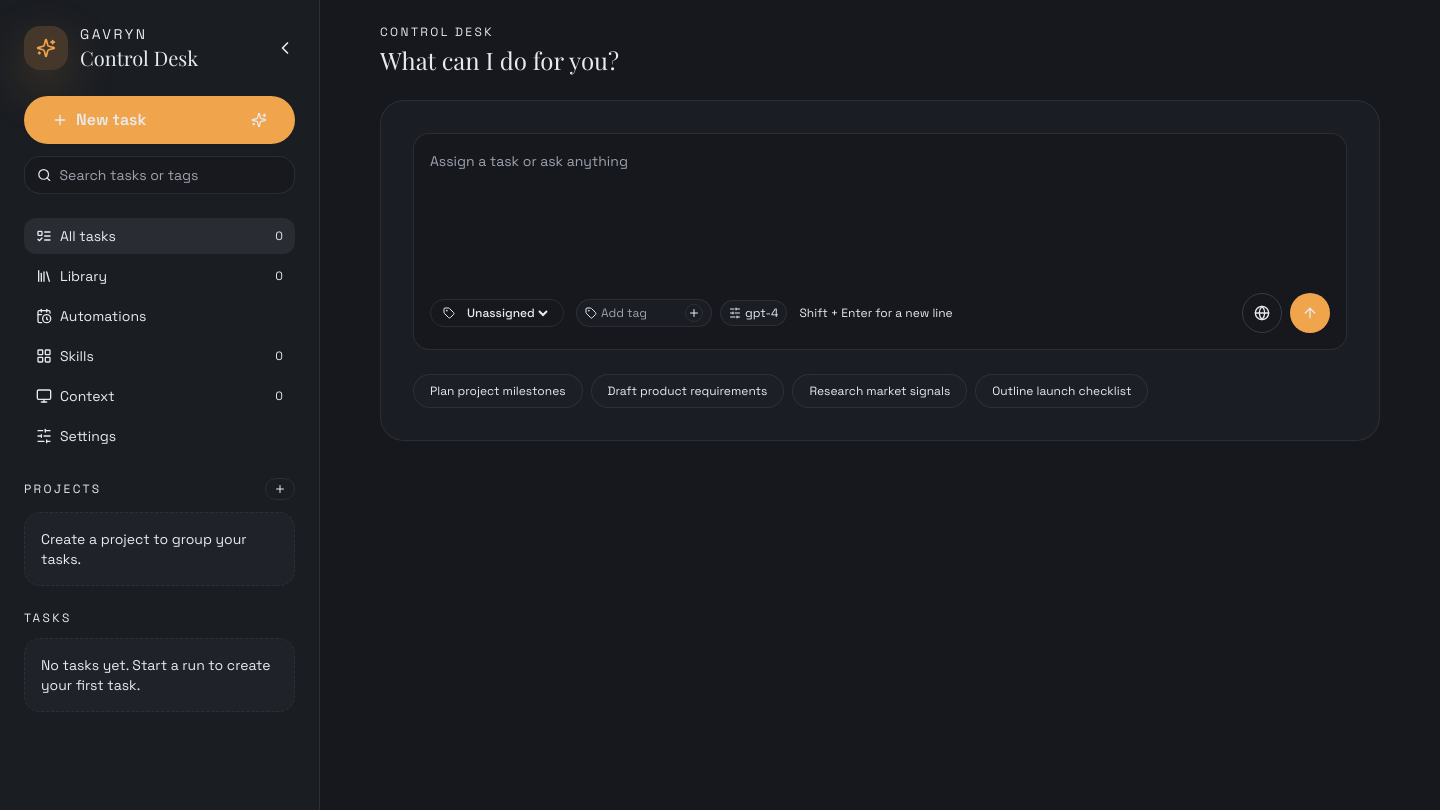
Test: App Component › 4. Async Function Tests › loads skills on mount of skills view
Expected: the text "Control Desk" below "Gavryn" is shown, [80,44,198,71]
// Navigate to Skills
Click the text "Skills" at (65, 356), box [36,346,94,366]
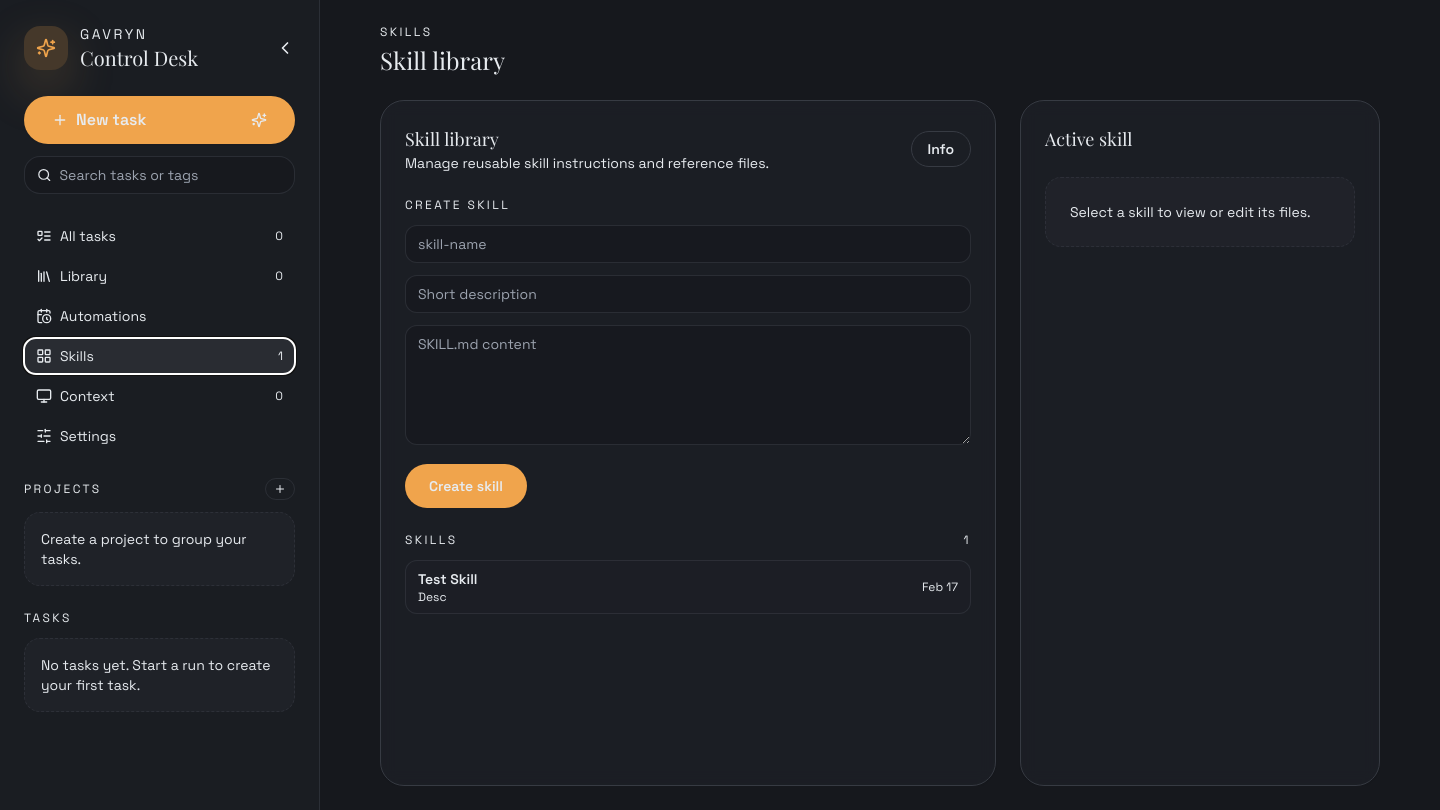
Expected: the text "Test Skill" is shown, [418,569,478,589]
